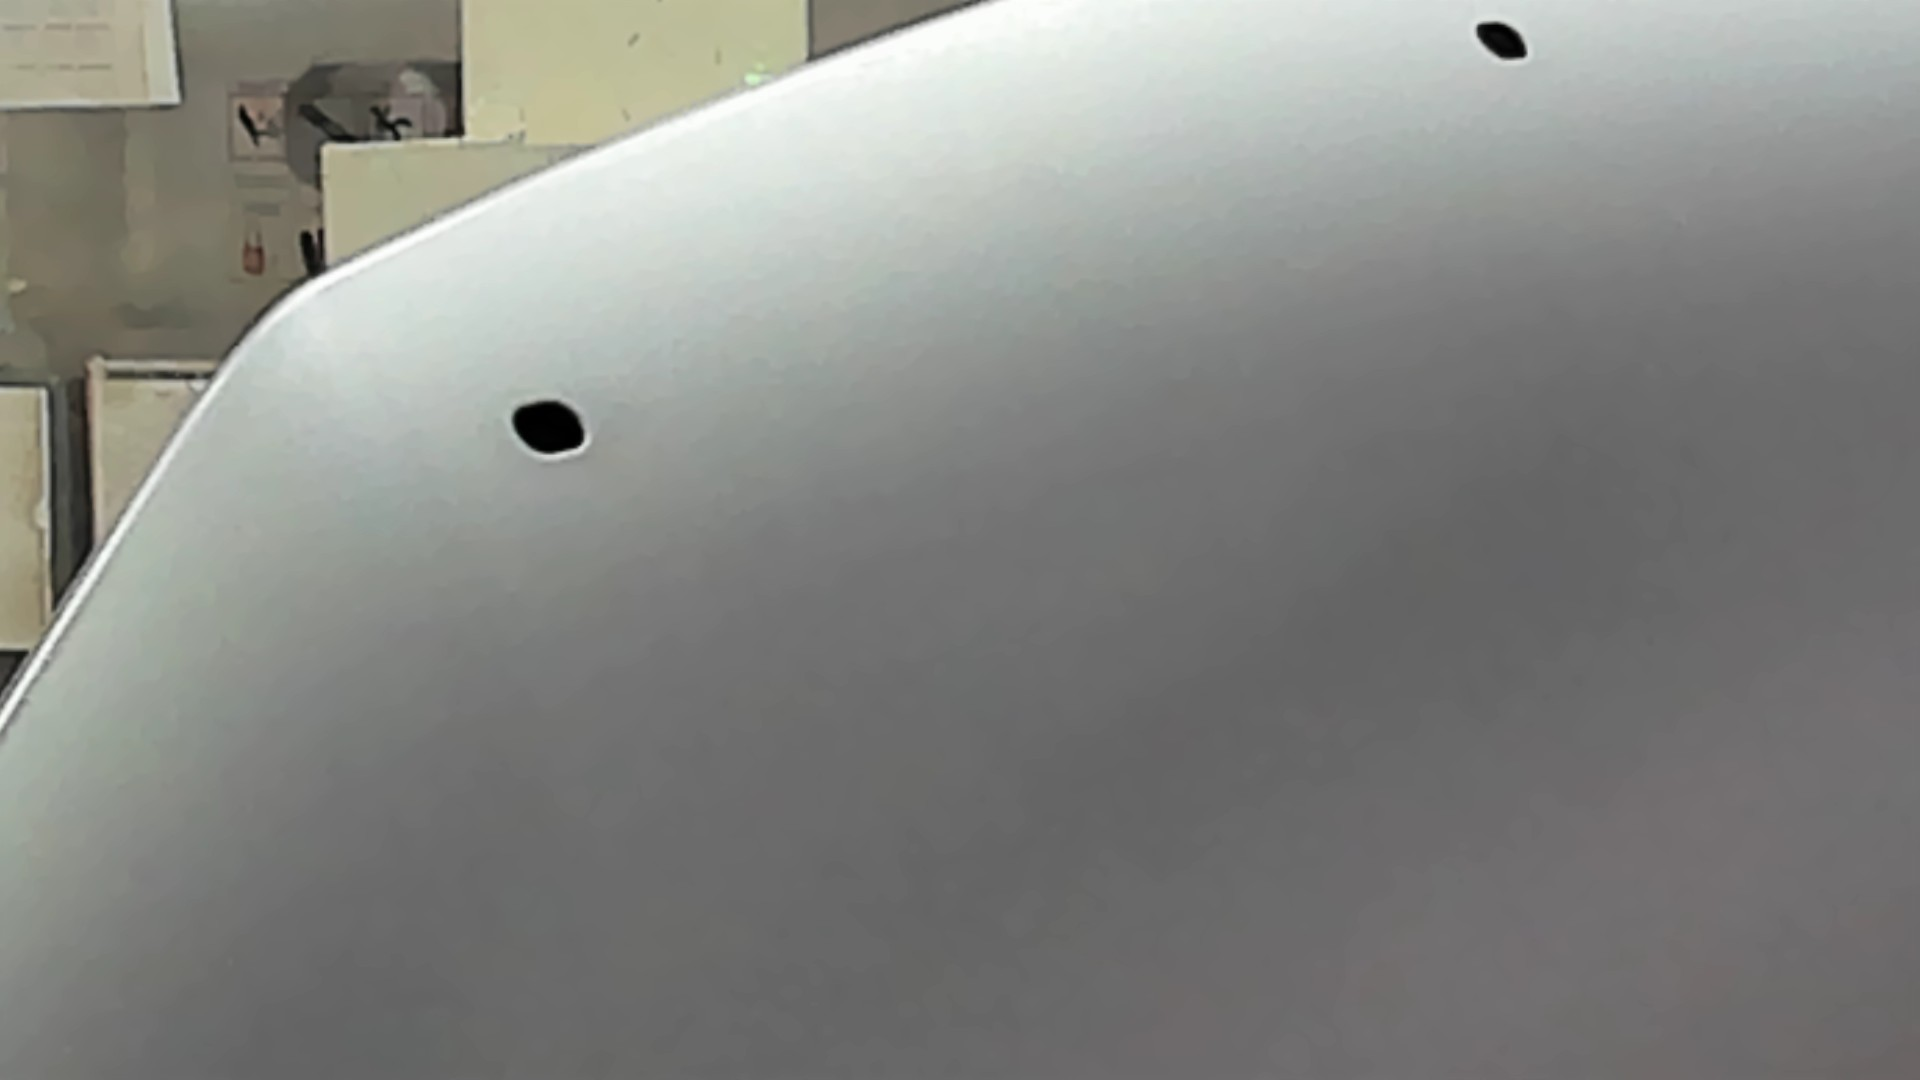chico: (500, 385, 604, 469), (1451, 4, 1548, 73)
